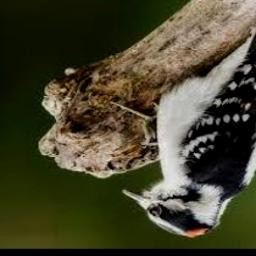Woodpecker: (108, 0, 256, 239)
